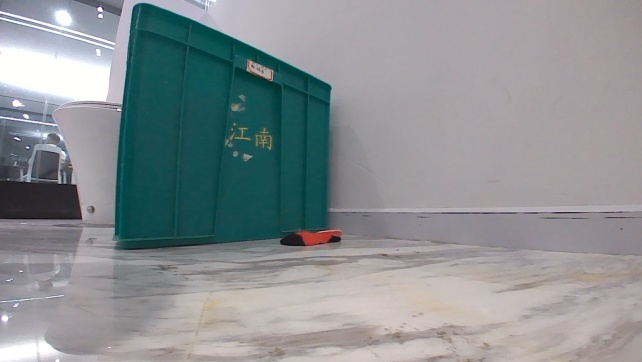socks: (277, 226, 346, 249)
toilet: (50, 97, 125, 228)
